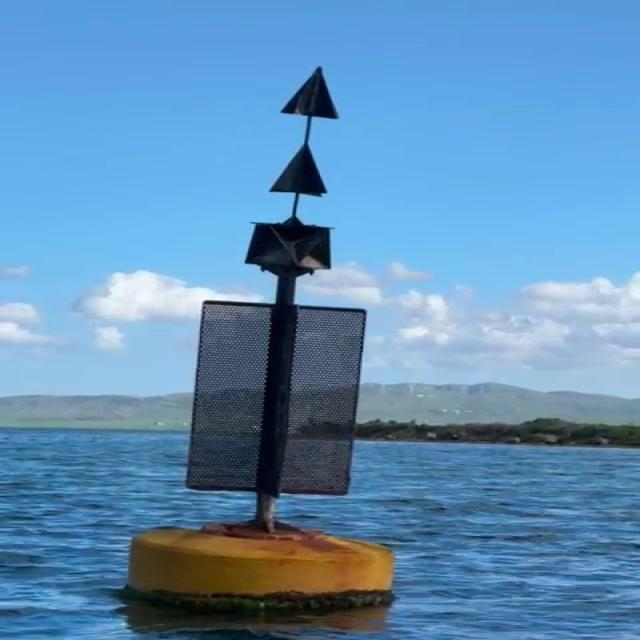marque: (118, 61, 398, 623)
